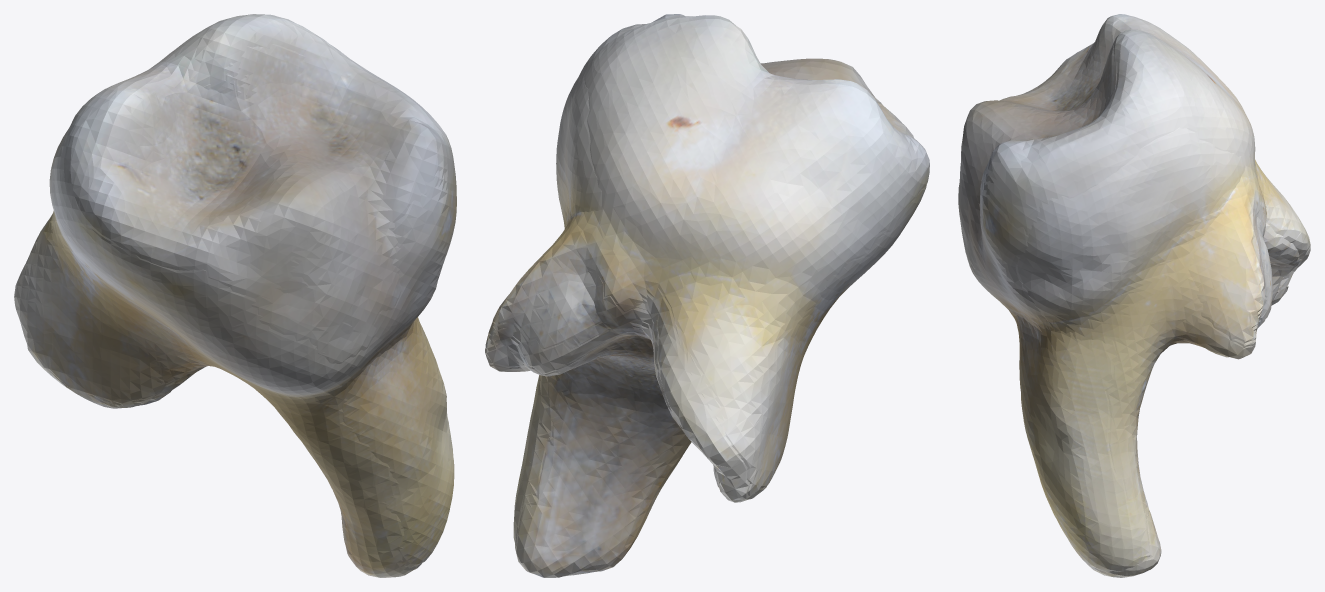
File: Dente.obj
The picture shows the model from 3 angles, left to right: view 1: azimuth 30°, elevation 25°; view 2: azimuth 150°, elevation 25°; view 3: azimuth 270°, elevation 25°; orthographic projection. The views are drawn at different scales.
Size of the model in its own units: 0.2348 by 0.3488 by 0.2329.
Materials: 1 (1 with a texture image).
